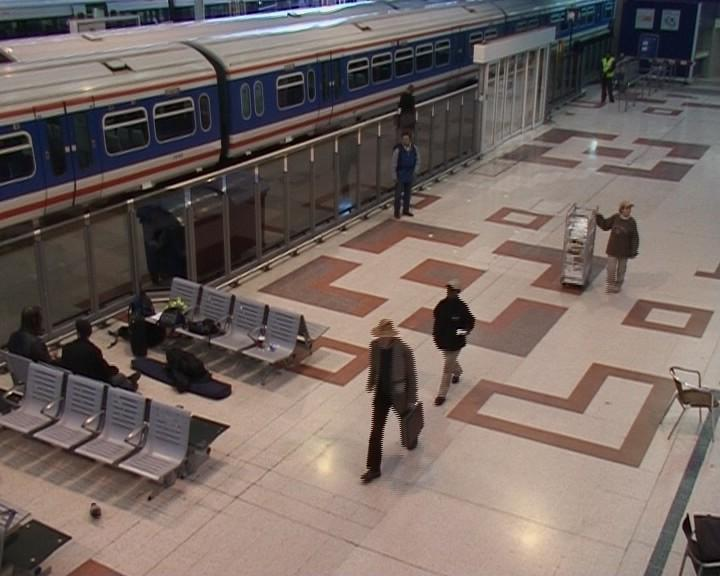person: (356, 317, 427, 487), (426, 275, 479, 411), (592, 199, 644, 300), (386, 129, 424, 223), (593, 49, 620, 112)
